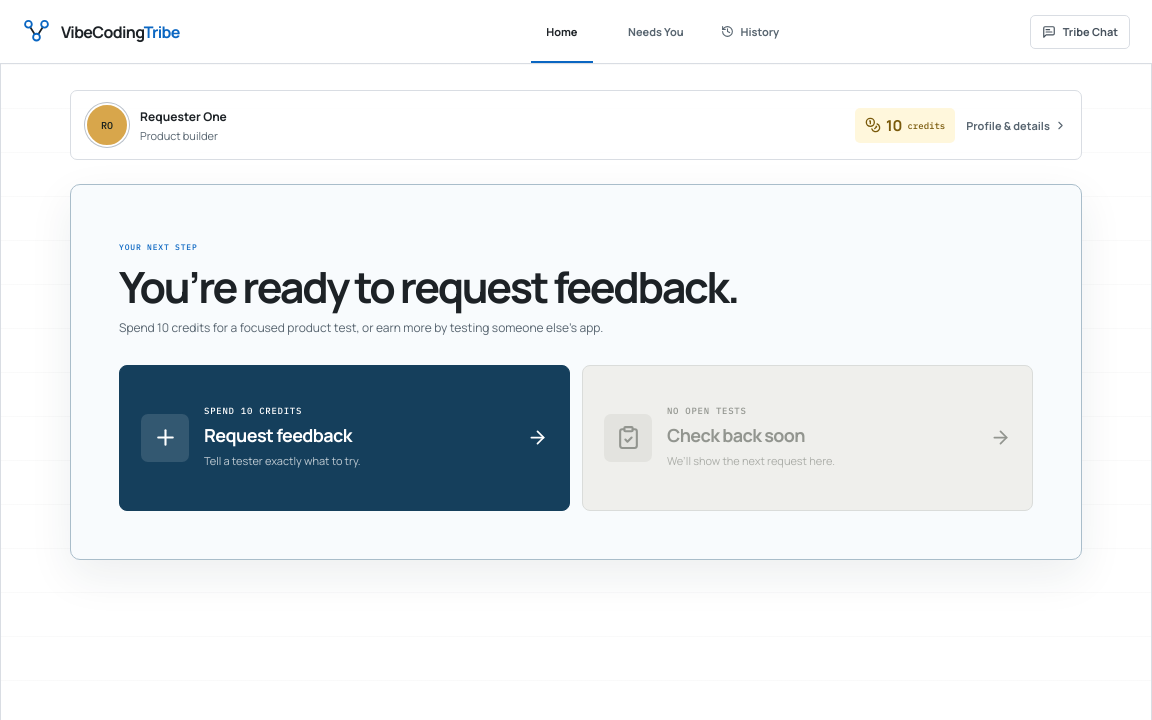
Test case: ExchangeApp › makes the credit requirement obvious after funding a request
Step 1. Click the button "Request feedback" → click(345, 438), box [119, 364, 570, 510]
(page scrolled)
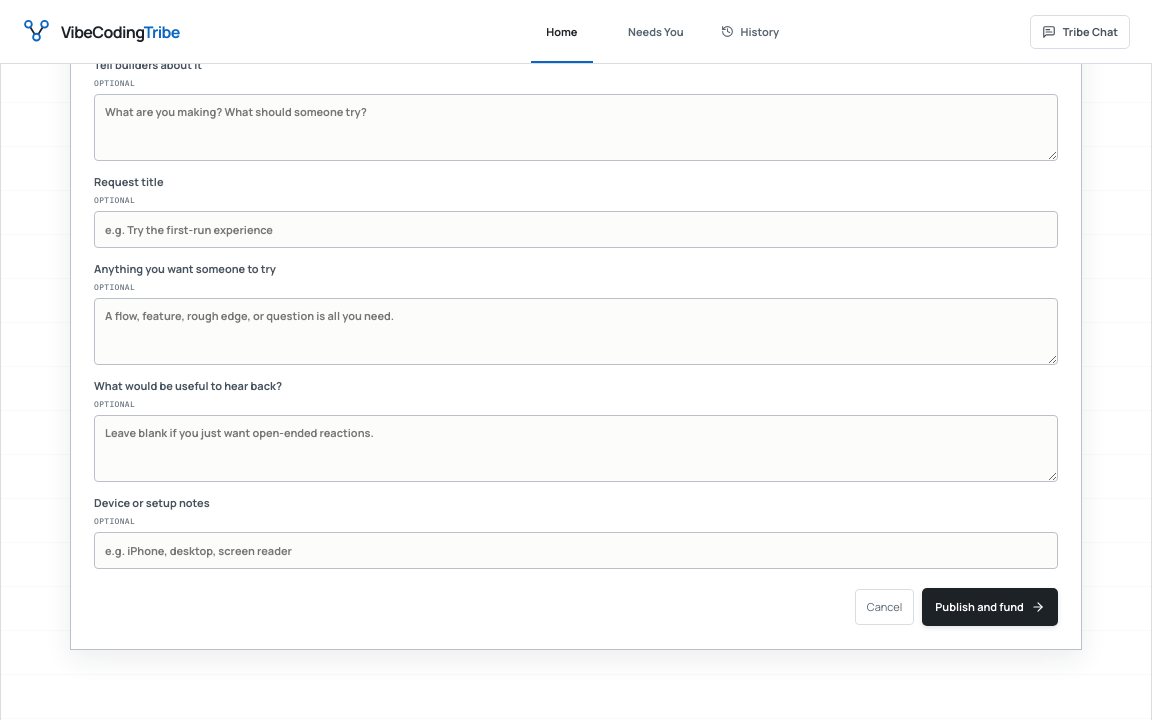
Step 2. Click the button "Publish and fund" → click(990, 607), box [922, 588, 1058, 626]
(page scrolled)
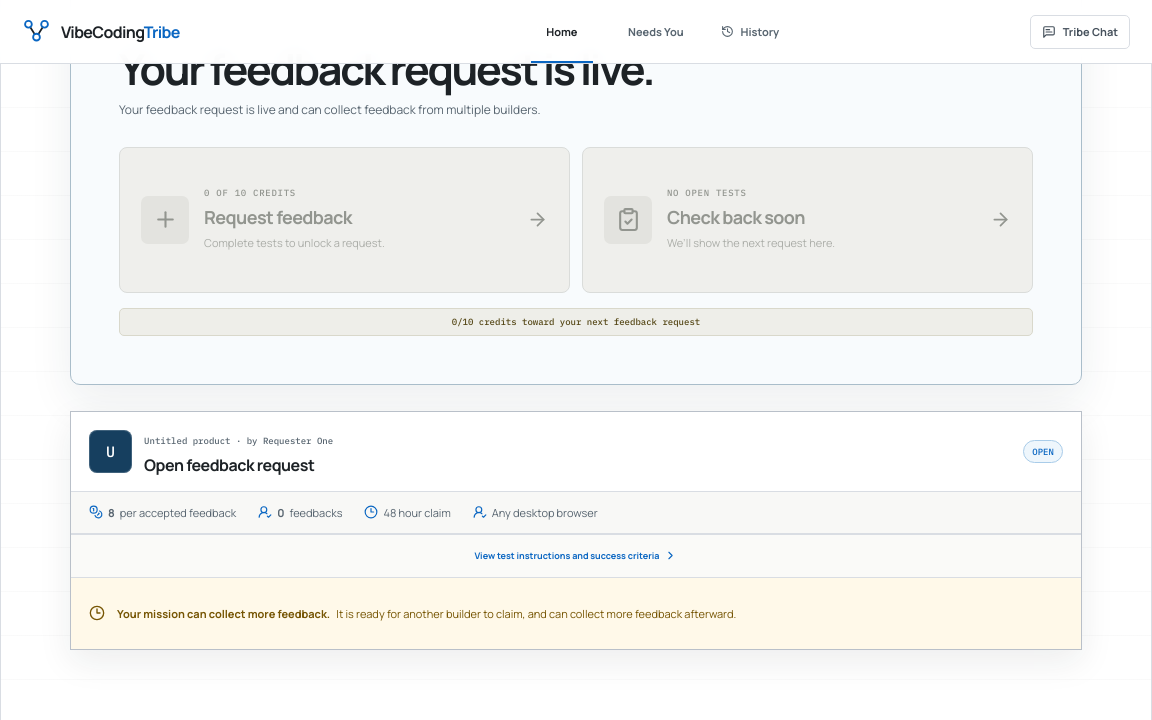
Expected: the heading "Your feedback request is live." is shown, [119, 39, 653, 98]
Expected: the text "0/10 credits toward your next feedback request" is shown, [452, 316, 700, 327]
Expected: the button "Request feedback" is disabled, [119, 146, 570, 292]
